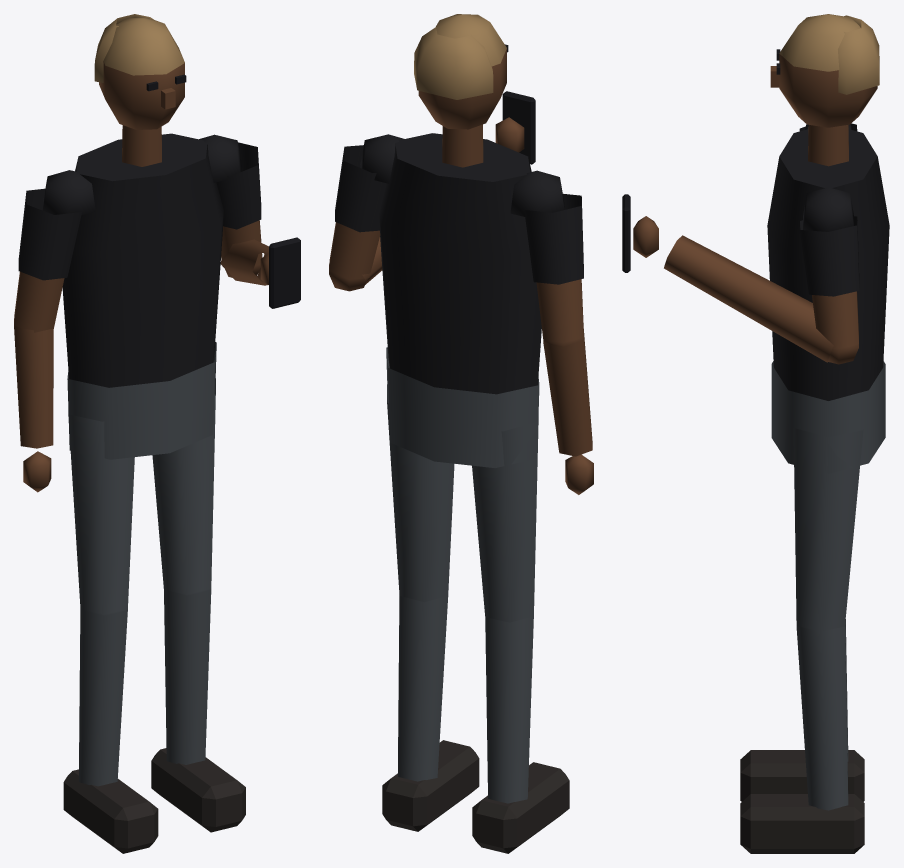
The model's file is fan_d.dae.
The picture shows the model from 3 angles, left to right: view 1: azimuth 30°, elevation 25°; view 2: azimuth 150°, elevation 25°; view 3: azimuth 270°, elevation 25°; orthographic projection. The views are drawn at different scales.
Visible parts, largest first — view 1: marker; view 2: marker; view 3: marker.
Boxes of the visible parts, bbox=[...] form: marker: bbox=[14, 14, 300, 853]; marker: bbox=[329, 14, 593, 853]; marker: bbox=[622, 14, 889, 853].
Size of the model in its own units: 0.567 by 0.516 by 1.73.
1 material, 1 textured.
